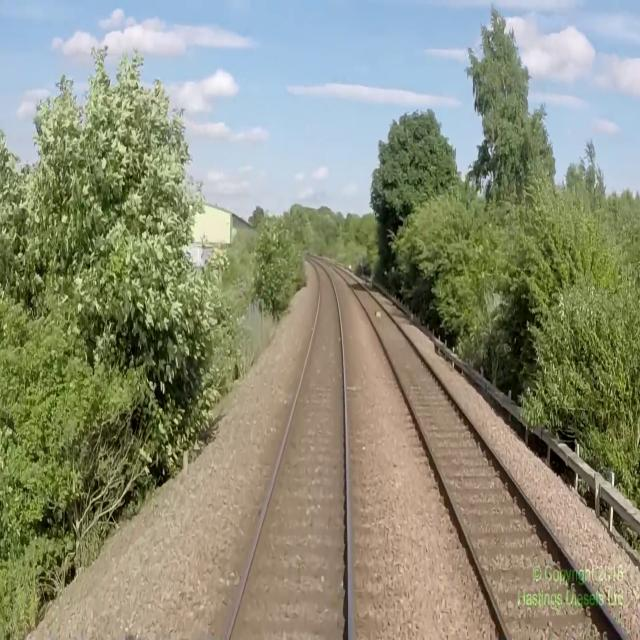rail-track: (332, 265, 622, 639), (229, 258, 348, 639)
